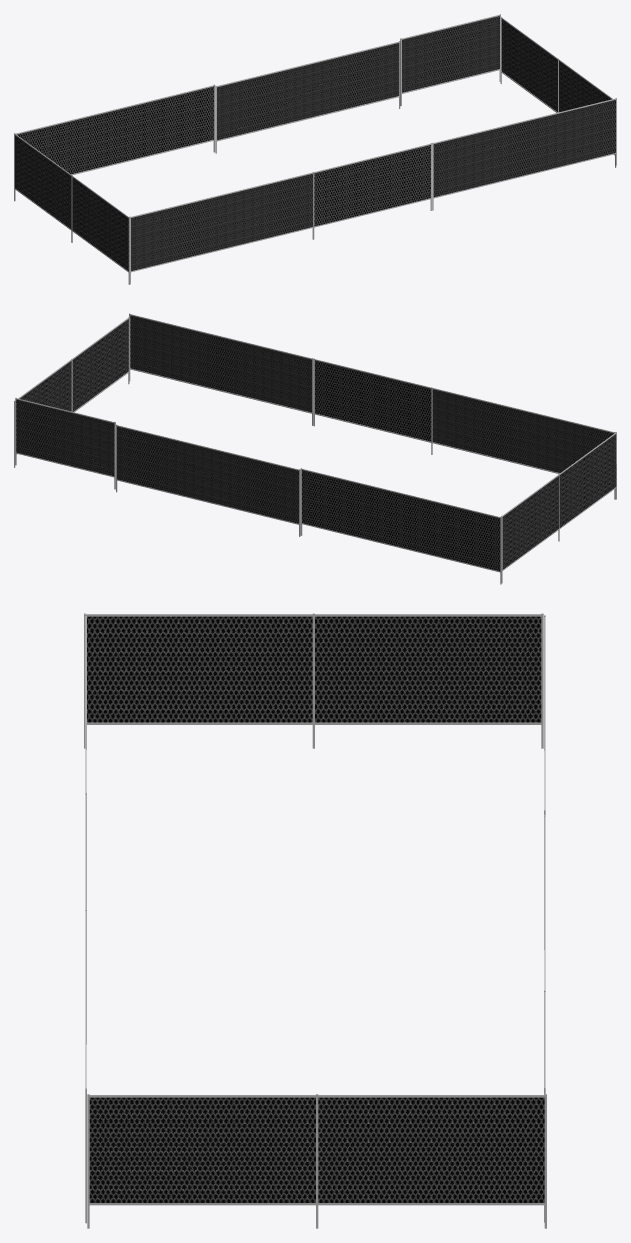
Rendered from mallbil_rooftopfence03b.fbx.
3 views of the same model, one above another, from view 1: azimuth 30°, elevation 25°; view 2: azimuth 150°, elevation 25°; view 3: azimuth 270°, elevation 25° (orthographic). The views are drawn at different scales.
Parts seen in each view (by area): view 1: mallbil_rooftopfence03b; view 2: mallbil_rooftopfence03b; view 3: mallbil_rooftopfence03b.
Boxes of the visible parts, x1=… form: mallbil_rooftopfence03b: x1=14, y1=14, x2=616, y2=284; mallbil_rooftopfence03b: x1=14, y1=313, x2=616, y2=584; mallbil_rooftopfence03b: x1=84, y1=613, x2=546, y2=1228.
Bounding box in the file's own units: 1643 × 226 × 676.
